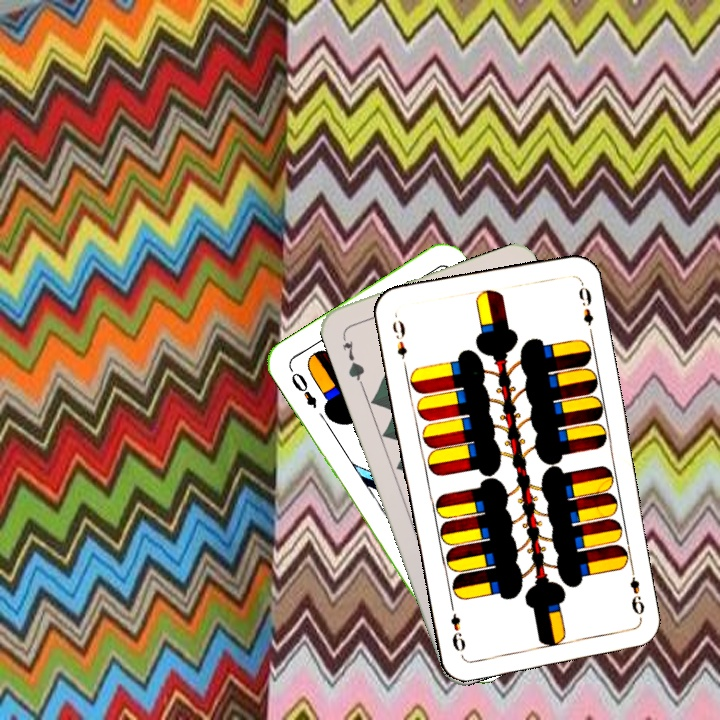E9: (625, 564, 647, 623), (388, 316, 410, 362)
EO: (286, 364, 320, 411)
G7: (338, 330, 367, 387)
